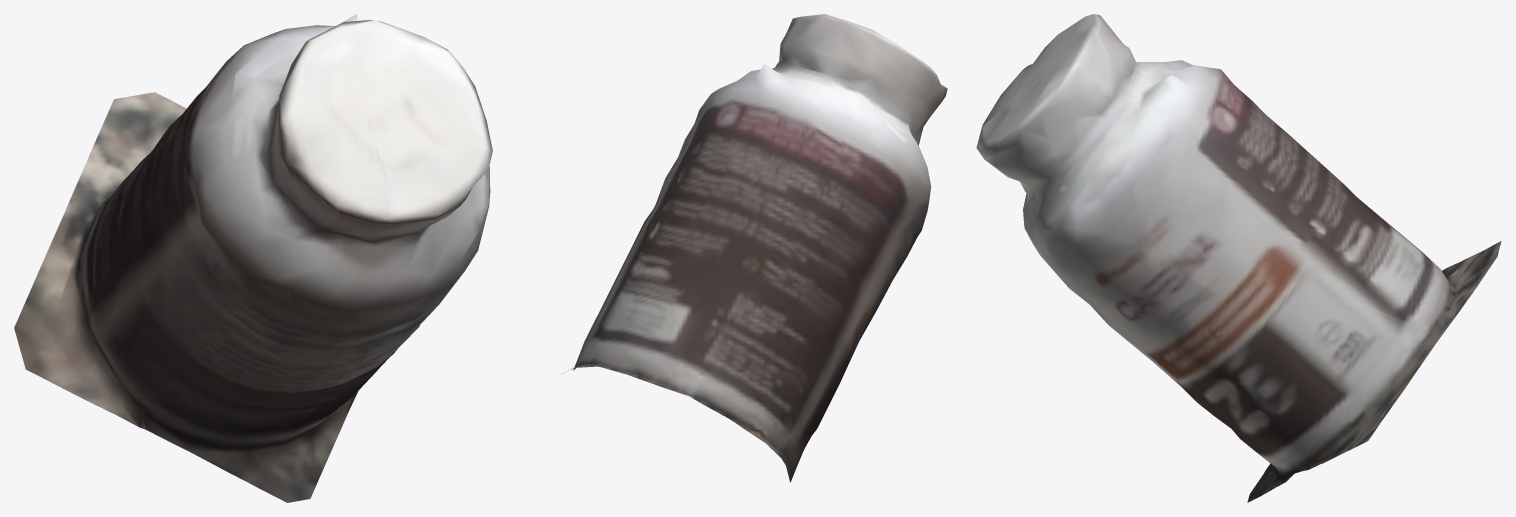
File: Teste.gltf
3 renders of one model, left to right at view 1: azimuth 30°, elevation 25°; view 2: azimuth 150°, elevation 25°; view 3: azimuth 270°, elevation 25°, orthographic. The views are drawn at different scales.
Parts seen in each view (by area): view 1: 3DModel_LowPoly; view 2: 3DModel_LowPoly; view 3: 3DModel_LowPoly.
Boxes of the visible parts, x1,y1,x2,y2 form: 3DModel_LowPoly: (14, 14, 492, 502); 3DModel_LowPoly: (562, 14, 947, 482); 3DModel_LowPoly: (976, 14, 1501, 502).
Size of the model in its own units: 0.1153 by 0.1533 by 0.1595.
Materials: 1 (1 with a texture image).
